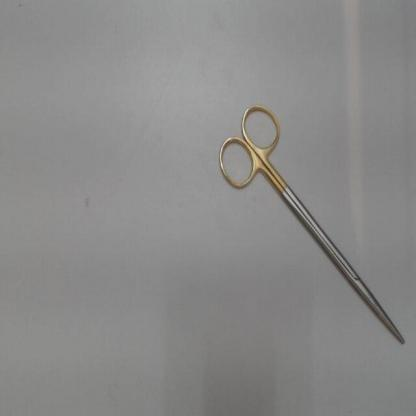7 Metzenbaum Scissors: (215, 92, 409, 351)
